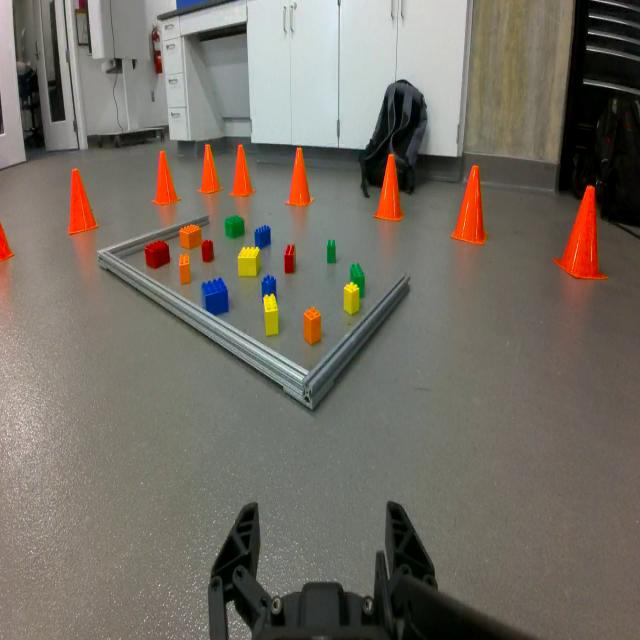block: (262, 292, 282, 339), (237, 244, 260, 279), (343, 283, 362, 319)
blue: (202, 275, 232, 320), (260, 273, 280, 305), (254, 221, 273, 253)
cone: (552, 178, 612, 286), (448, 155, 488, 252), (369, 147, 408, 225), (62, 164, 102, 236), (149, 147, 185, 211), (286, 142, 314, 211), (228, 138, 257, 200), (197, 140, 226, 199)
green: (322, 230, 341, 269), (223, 211, 247, 240), (351, 260, 367, 300)
metal barrier: (96, 211, 413, 411)
orange: (300, 304, 324, 350), (180, 224, 202, 251), (180, 253, 193, 288)
red goal: (142, 238, 172, 269), (283, 243, 299, 277), (201, 234, 214, 264)
